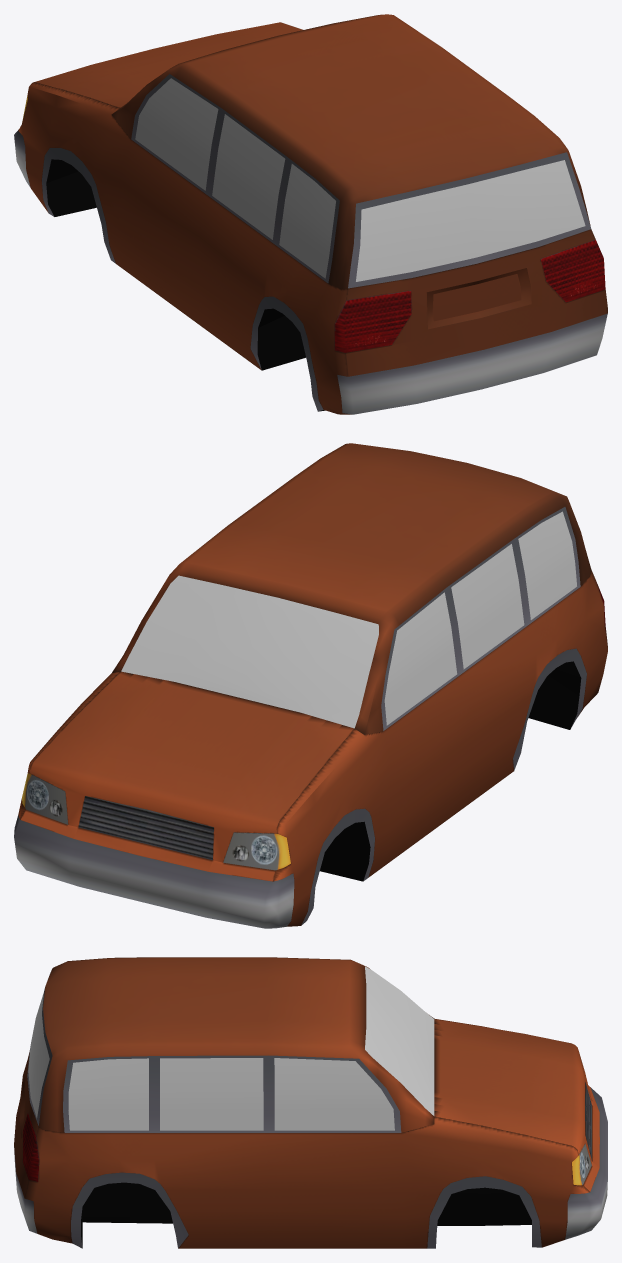
The model's file is car05.obj.
3 views of the same model, one above another, from view 1: azimuth 30°, elevation 25°; view 2: azimuth 150°, elevation 25°; view 3: azimuth 270°, elevation 25° (orthographic). The views are drawn at different scales.
Visible parts, largest first — view 1: Car; view 2: Car; view 3: Car.
Part boxes in pixels (left/top/right/bottom): Car: left=14, top=14, right=607, bottom=414; Car: left=14, top=443, right=607, bottom=928; Car: left=14, top=957, right=607, bottom=1248.
Bounding box in the file's own units: 2.2 × 1.78 × 4.84.
Materials: 2 (1 with a texture image).
